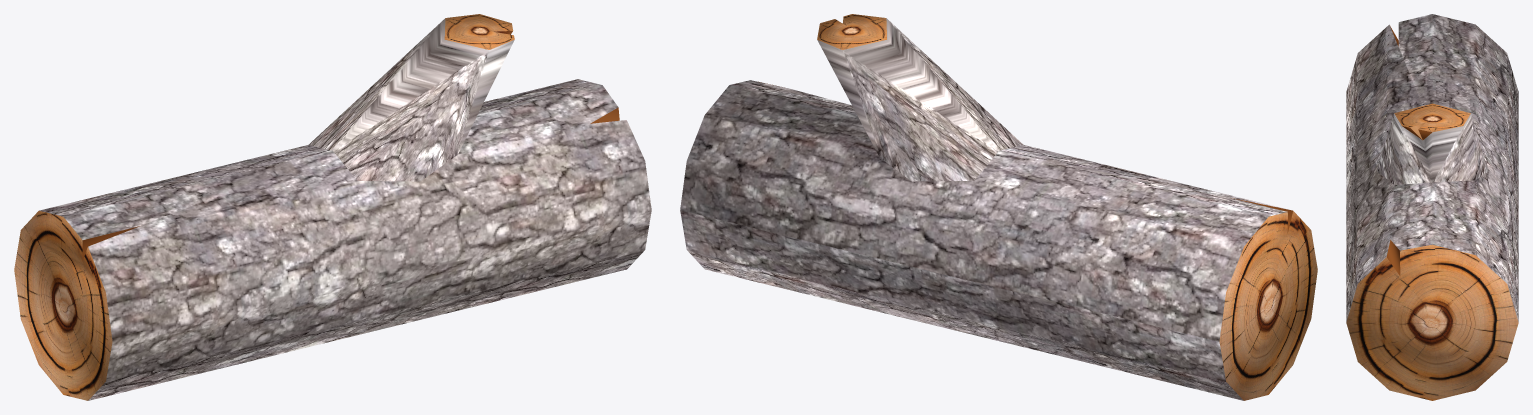
Rendered from PoplarLog.glb.
The picture shows the model from 3 angles, left to right: view 1: azimuth 30°, elevation 25°; view 2: azimuth 150°, elevation 25°; view 3: azimuth 270°, elevation 25°; orthographic projection. The views are drawn at different scales.
Parts seen in each view (by area): view 1: Cylinder.001, Cylinder; view 2: Cylinder.001, Cylinder; view 3: Cylinder.001, Cylinder.
Part boxes in pixels (<box>): Cylinder.001: <box>39,18,651,400</box>; Cylinder: <box>14,14,619,400</box>; Cylinder.001: <box>680,18,1289,400</box>; Cylinder: <box>758,14,1317,400</box>; Cylinder.001: <box>1346,14,1518,321</box>; Cylinder: <box>1346,26,1518,400</box>.
Size of the model in its own units: 3.38 by 1.57 by 1.07.
2 materials, 2 textured.
